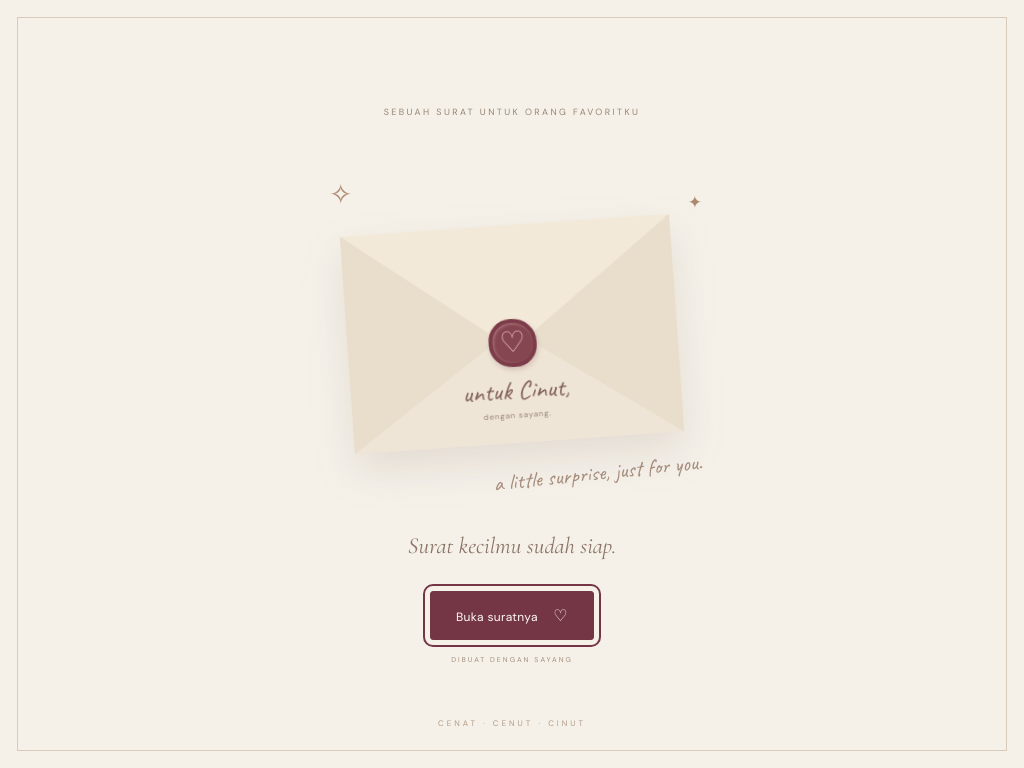
Test case: Amplop pembuka › tetap membuka surat jika audio ditolak dan menyediakan Play tanpa mengulang otomatis
What coordinates should you click on to do the following:
click the button "Buka suratnya ♡"
I would click on:
 (512, 616)
Its box is [430,592,594,640].
Wait 1700 ms
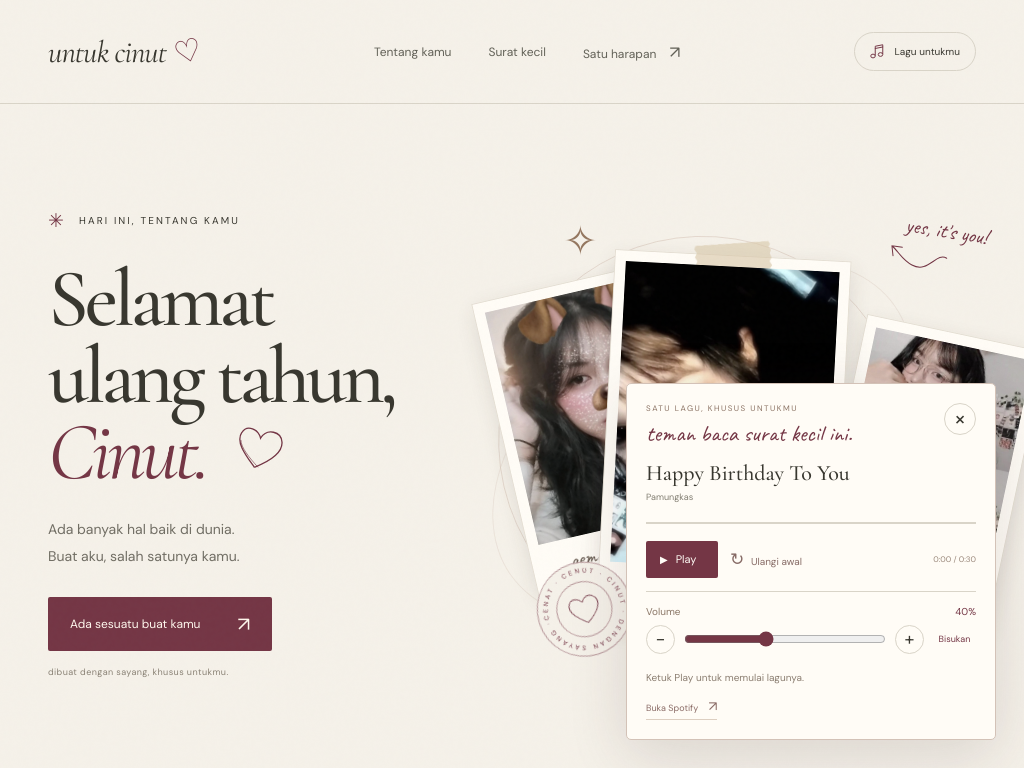
Expected: the heading shows "Cinut.", [48,402,206,502]
Expected: the text "Ketuk Play untuk memulai lagunya." is shown, [646,671,804,684]
Expected: the button with aria-label "Putar lagu" is enabled, [646,540,718,578]
